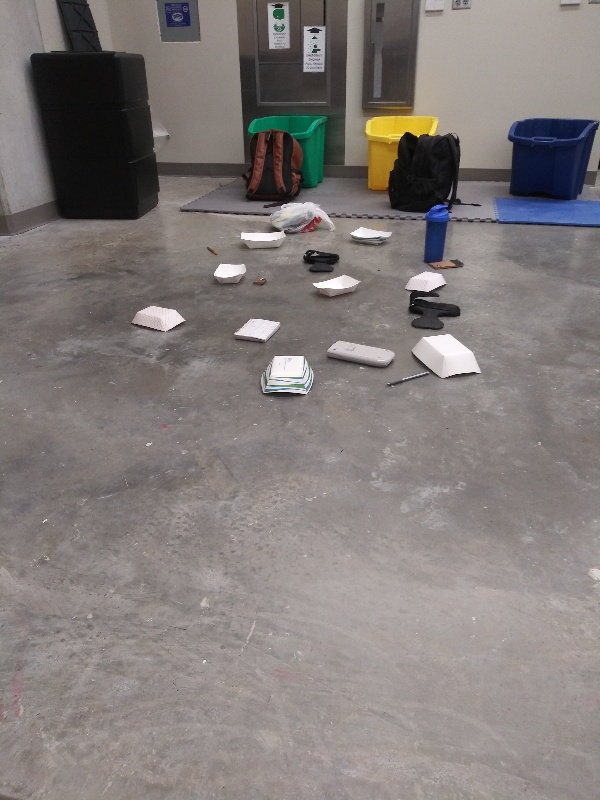plate: (406, 331, 486, 380), (257, 352, 318, 401), (125, 301, 188, 335), (308, 271, 363, 299), (345, 222, 397, 251), (206, 259, 250, 288), (236, 226, 290, 249), (403, 268, 451, 292)
